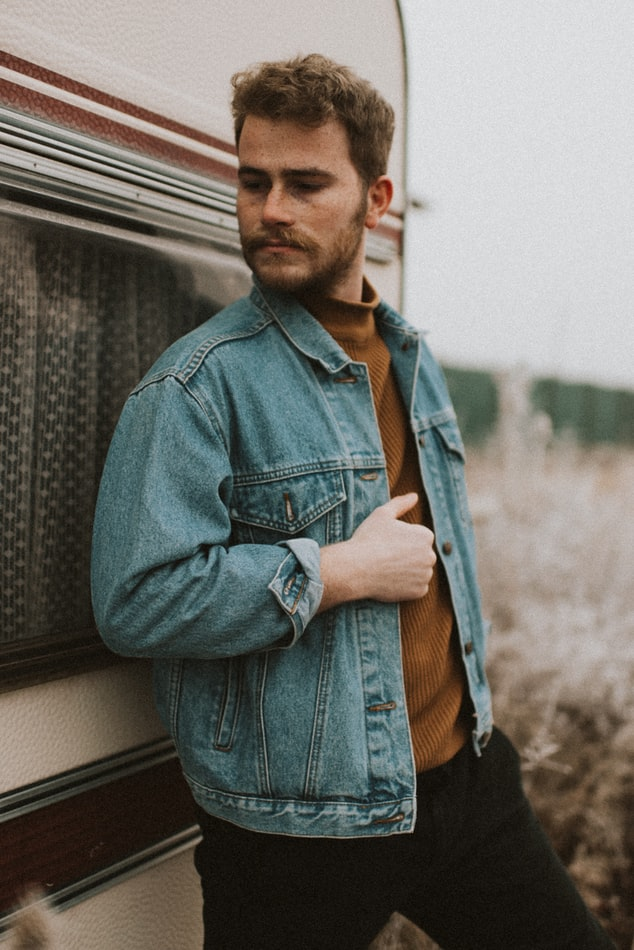beard: (233, 217, 368, 297)
